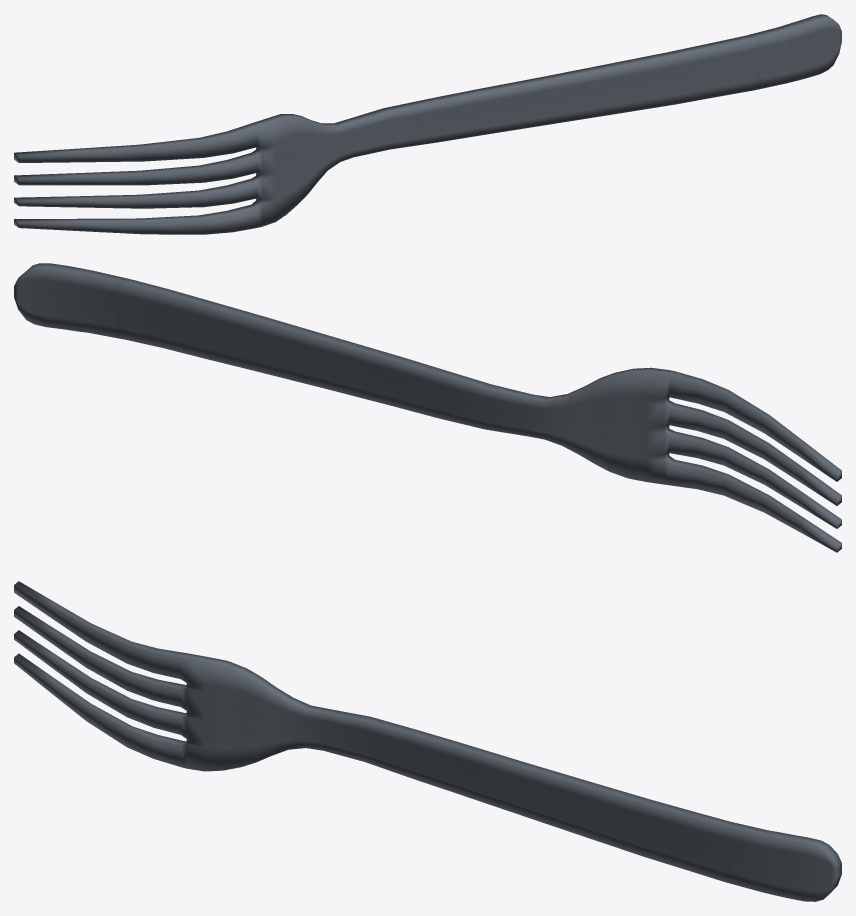
Rendered from mdl_fork.fbx.
The picture shows the model from 3 angles, top to bottom: view 1: azimuth 30°, elevation 25°; view 2: azimuth 150°, elevation 25°; view 3: azimuth 330°, elevation 25°; orthographic projection. The views are drawn at different scales.
Visible parts, largest first — view 1: fork; view 2: fork; view 3: fork.
Part boxes in pixels (x1=…): fork: x1=14, y1=14, x2=841, y2=234; fork: x1=14, y1=263, x2=841, y2=552; fork: x1=14, y1=581, x2=841, y2=901.
Bounding box in the file's own units: 263 × 32.18 × 27.65.
